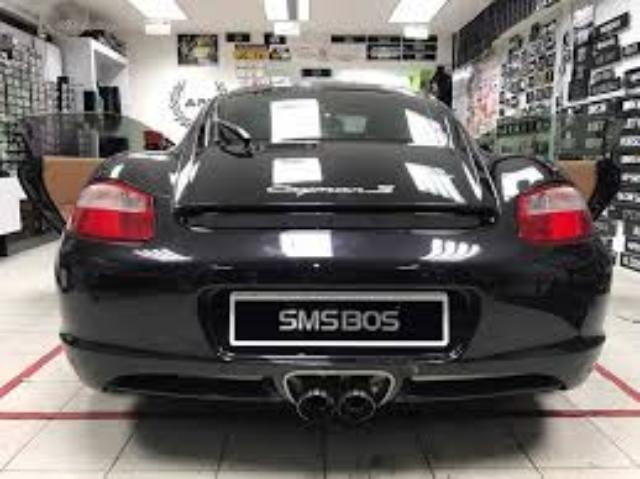License_Plate: (228, 280, 476, 362)
car: (27, 56, 613, 425)
